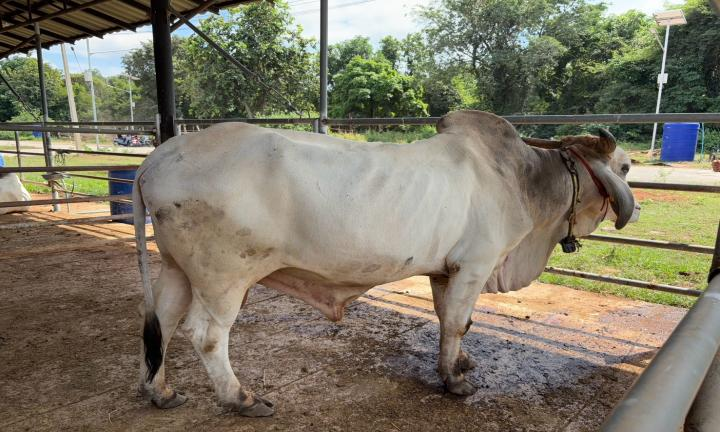Brahman: (132, 110, 639, 416)
